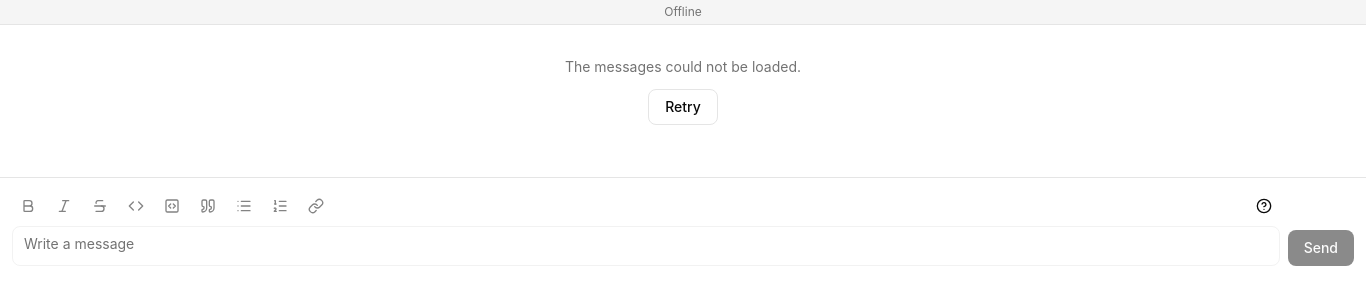
Test case: shows the error state on a 403 and loads the history on retry
This screenshot has width=1366, height=283.
Expected: the text "The messages could not be loaded." is shown, left=565, top=57, right=801, bottom=77
Click the button "Retry" at (683, 107), box left=648, top=89, right=718, bottom=125
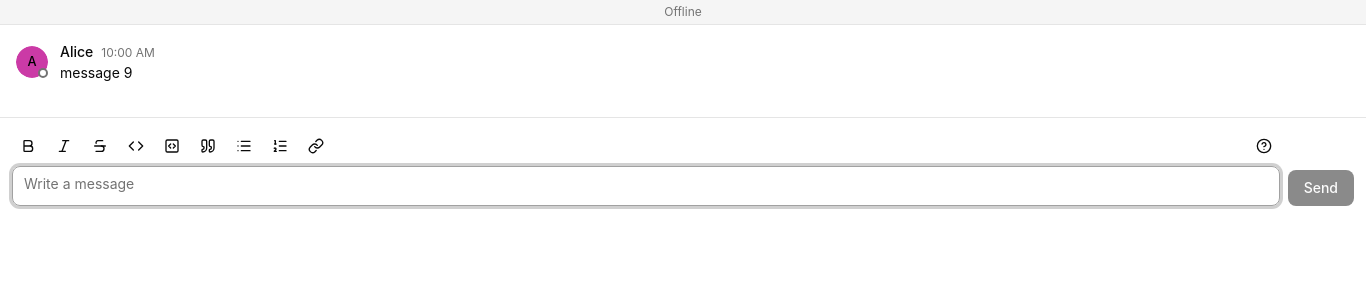
Expected: the text "message 9" is shown, left=60, top=64, right=132, bottom=81
